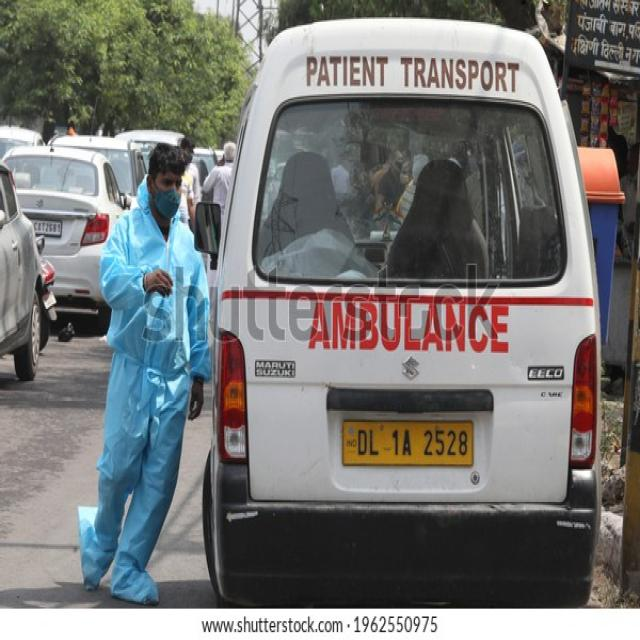ambulance: (208, 16, 598, 606)
